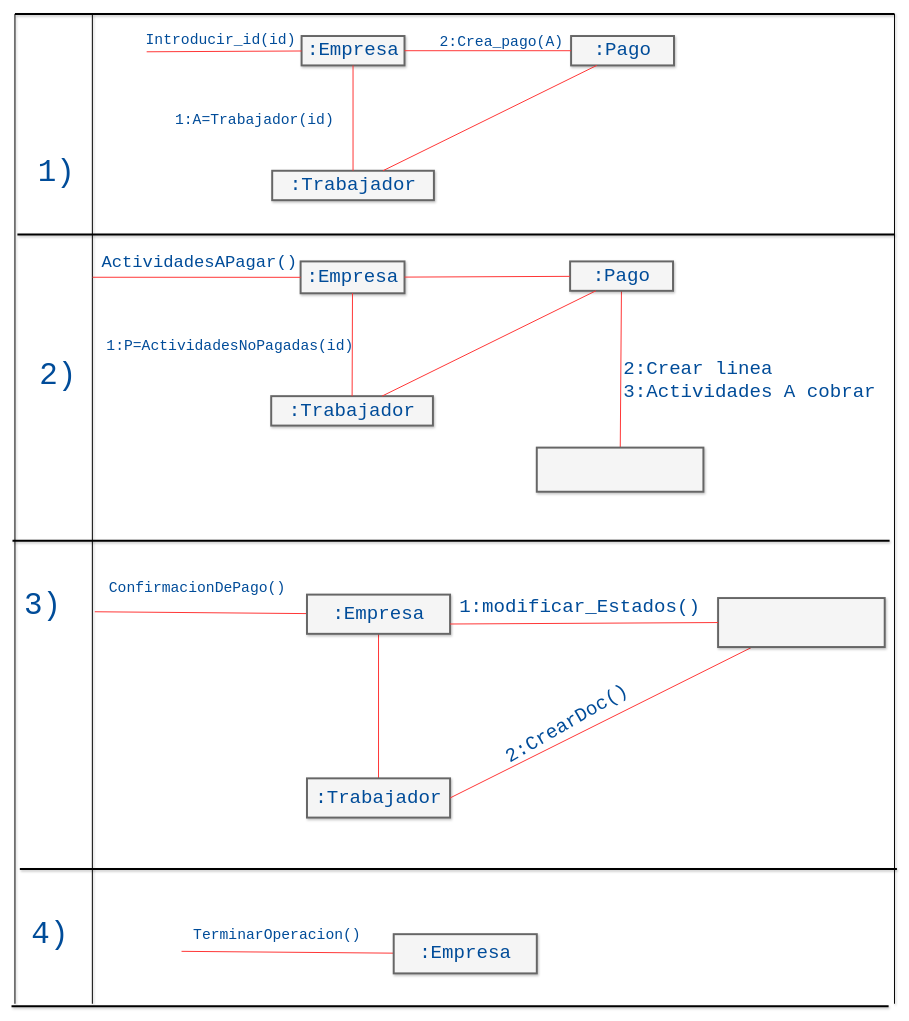
Image size: 909x1021. Some labels were removed from this diagram. Each missing label, with the centre of its shape:
: linea Pago: the point at 801,623
:linea de Pago: the point at 620,470
